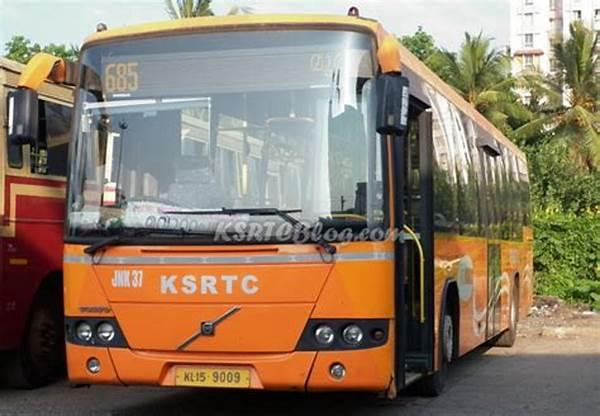Bus: (63, 11, 536, 399)
